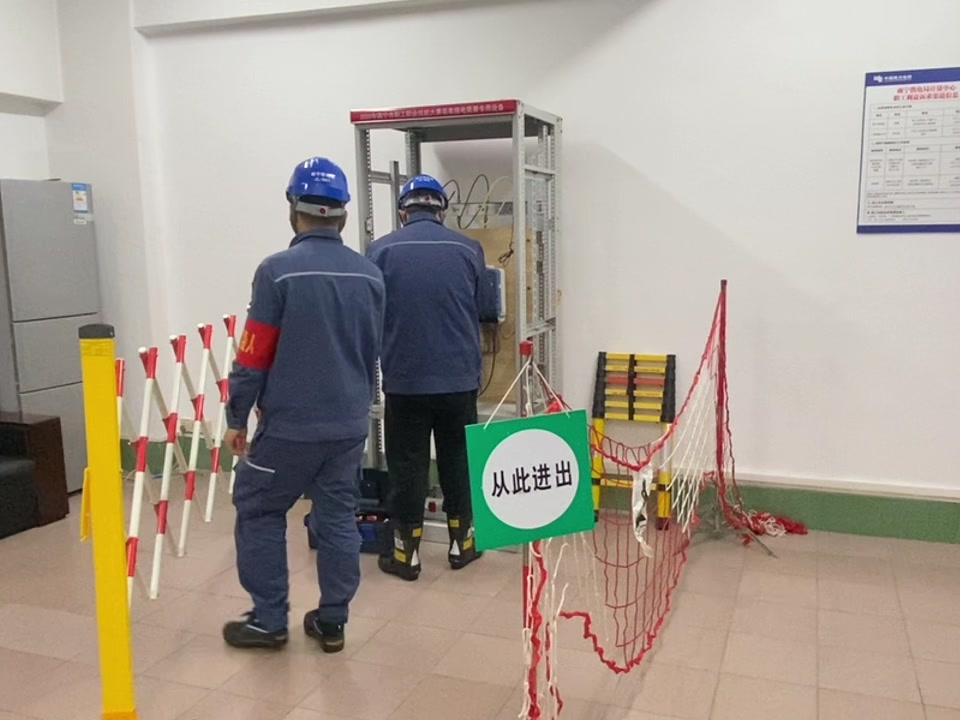badge: (237, 320, 281, 371)
downcloth: (383, 391, 479, 522)
downsuit: (231, 449, 370, 625)
halt: (284, 156, 353, 230), (397, 175, 452, 220)
hand: (221, 428, 247, 463)
intosign: (458, 409, 598, 550)
person: (218, 153, 384, 653), (371, 172, 500, 584)
shoe: (383, 521, 426, 581), (443, 518, 487, 568)
upsuit: (227, 236, 383, 434), (375, 220, 498, 394)
